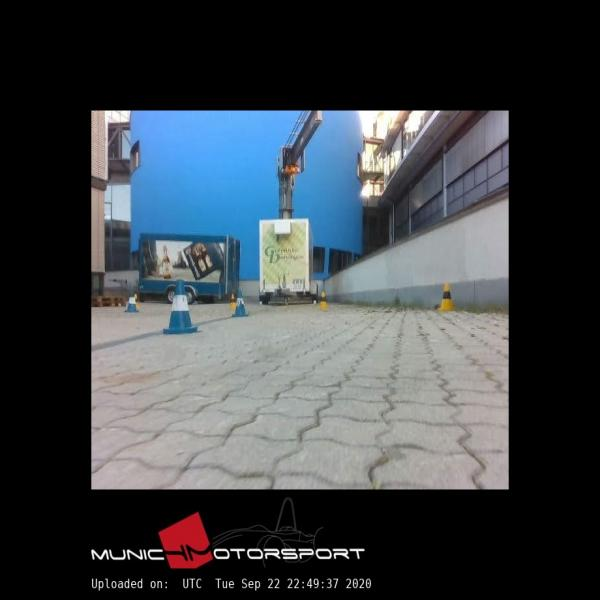blue_cone: (163, 279, 204, 334), (232, 290, 249, 316), (125, 292, 139, 314)
yellow_cone: (438, 283, 454, 311), (318, 291, 327, 308), (134, 294, 140, 308), (229, 294, 235, 308)
